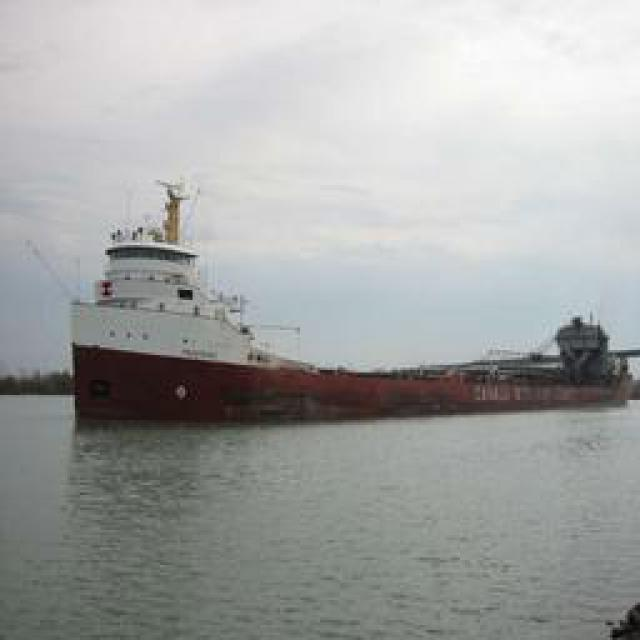Ship: (70, 187, 615, 425)
